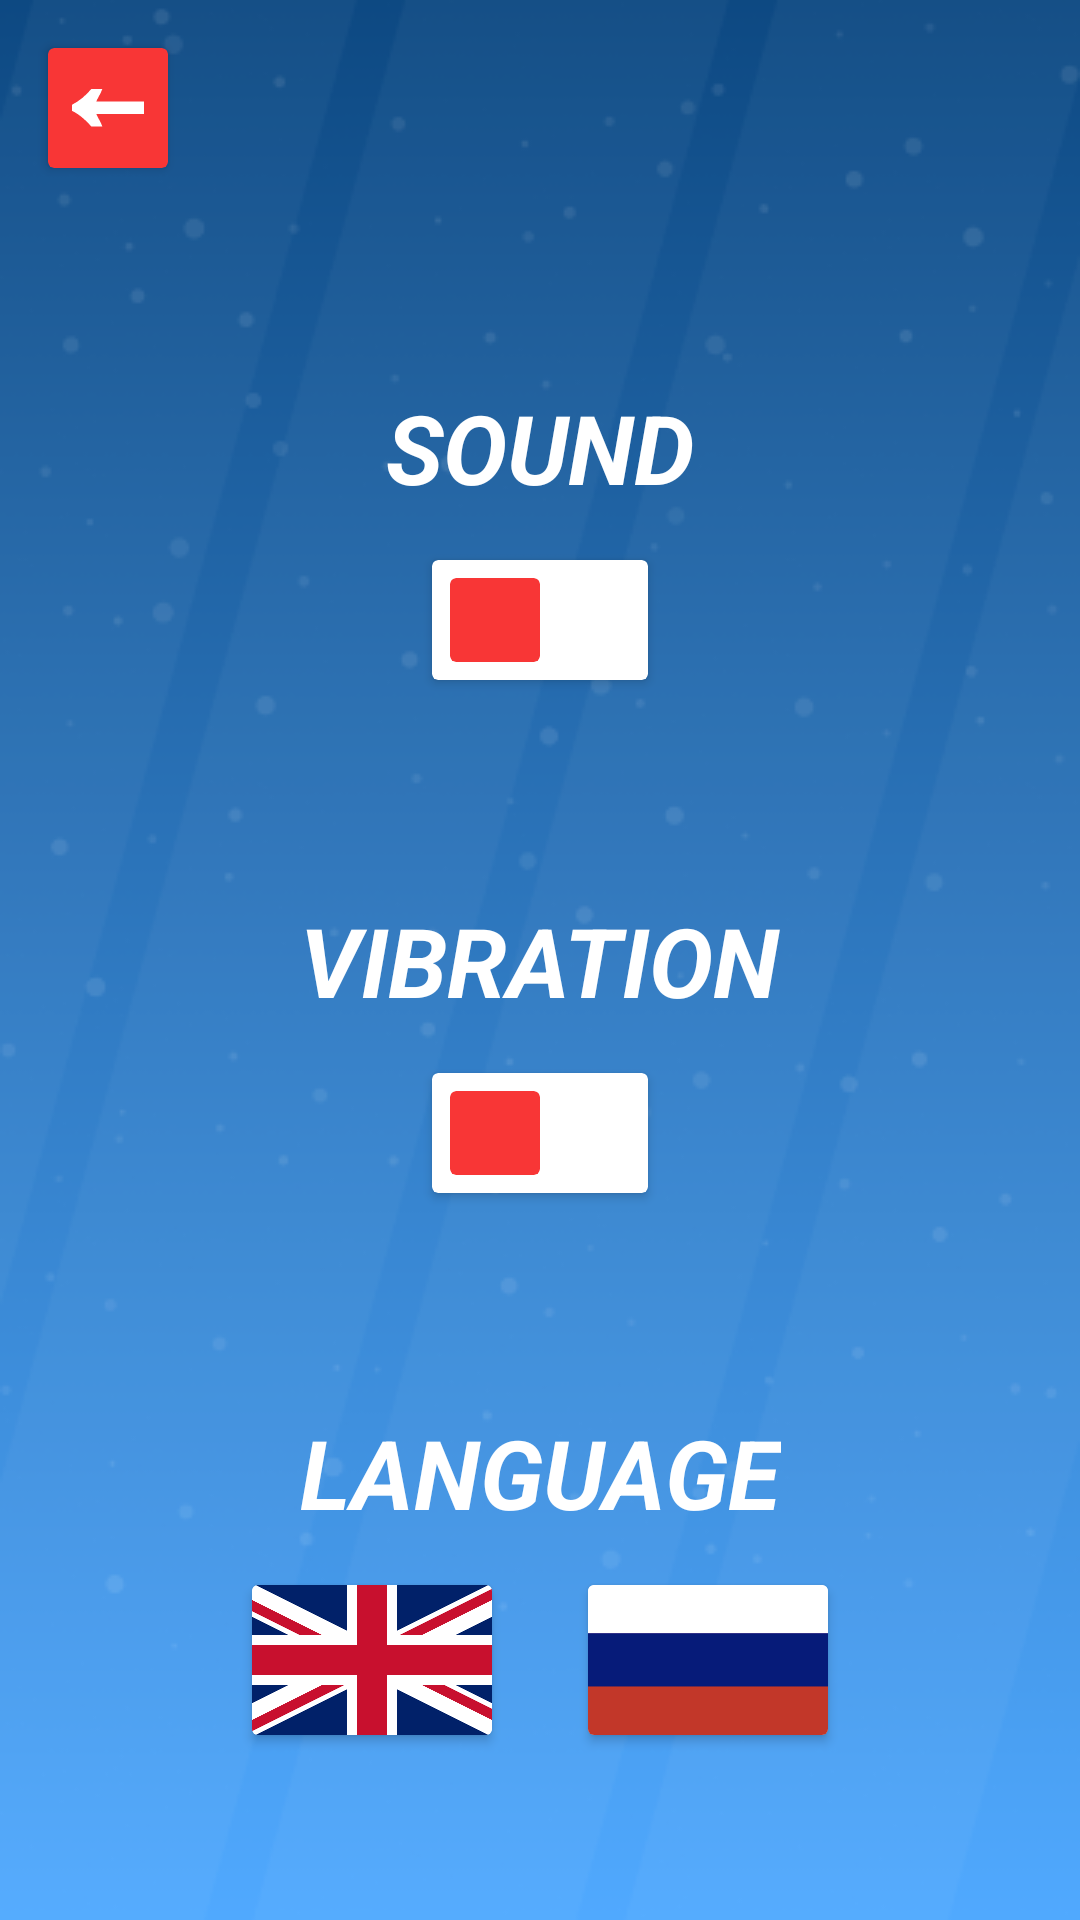

Named icons in this screenshot (1080x1920) and their bounding boxes, (x1, y1, x2, y2):
arrow back: (72, 89, 144, 127)
